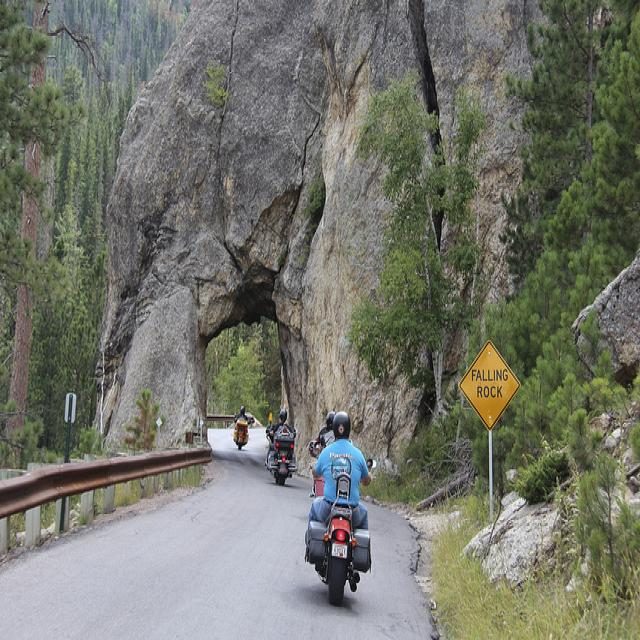motor: (305, 472, 371, 605), (266, 412, 297, 486), (308, 456, 325, 500), (234, 418, 249, 450), (308, 440, 315, 453)
